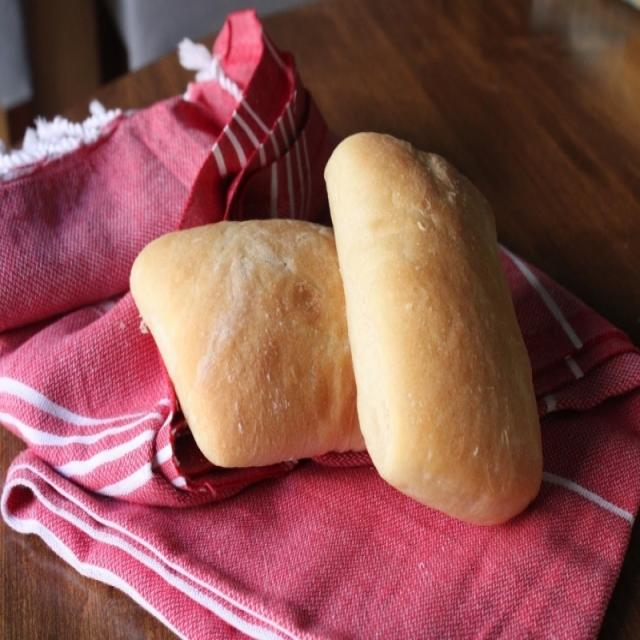Ciabatta: (325, 133, 541, 522), (131, 220, 366, 467)
